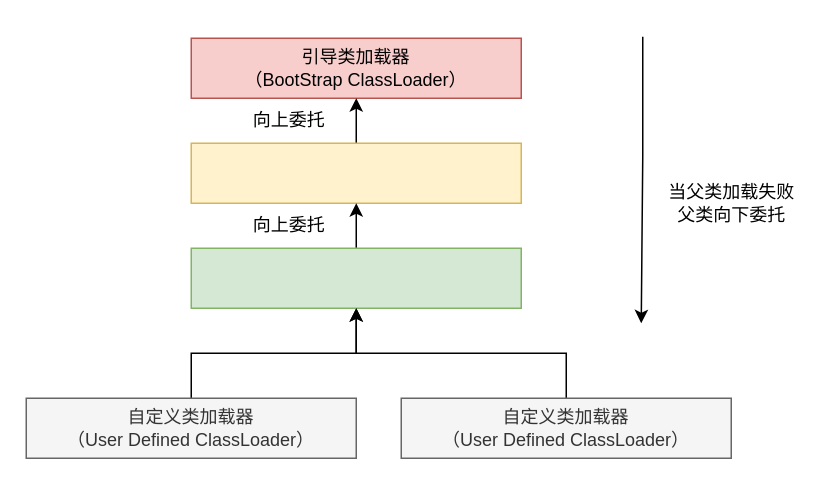
Image size: 840x485. Some labels were removed from this diagram. The shapes that lost their labels are listed below. From the top down, each one's box as (x1, y1, x2, y2) in pixels, then its label:
(190, 142, 521, 203): 扩展类加载器 （Extension ClassLoader）
(190, 247, 521, 308): 应用类加载器 （Application ClassLoader）
